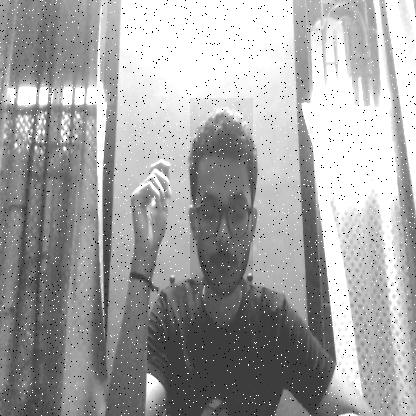Normal: (190, 98, 253, 285)
